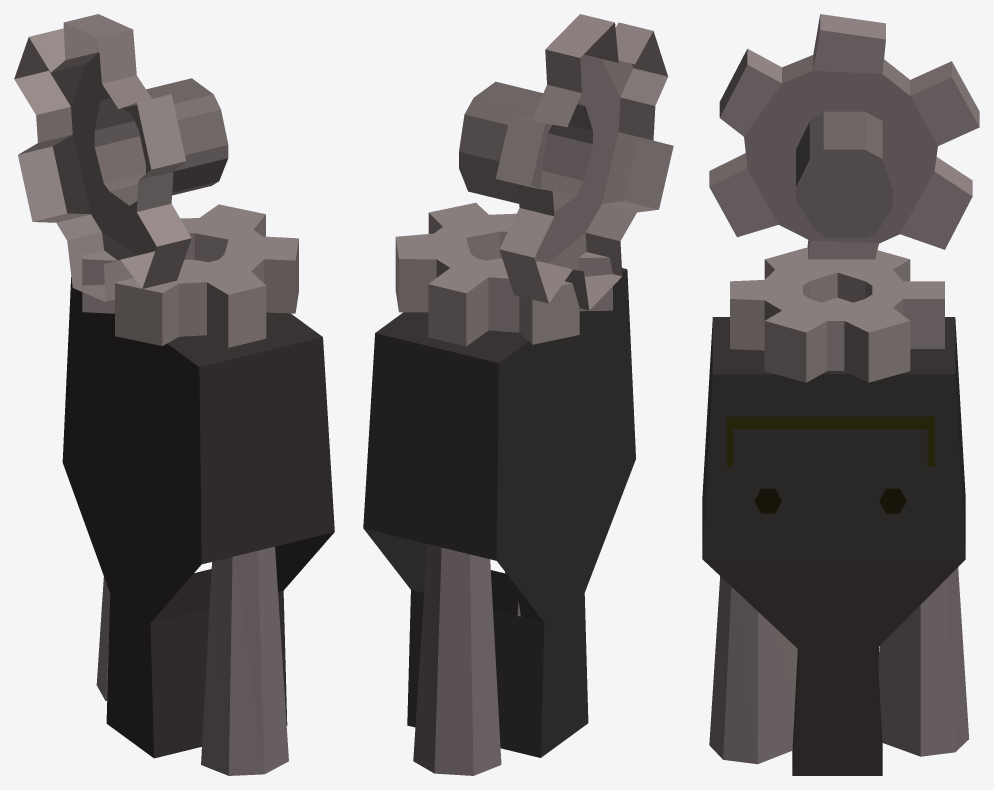
File: obj_clock_face_2_0.obj
3 views of the same model, side by side, from view 1: azimuth 30°, elevation 25°; view 2: azimuth 150°, elevation 25°; view 3: azimuth 270°, elevation 25° (orthographic). The views are drawn at different scales.
Size of the model in its own units: 0.4766 by 1.7 by 0.625.
